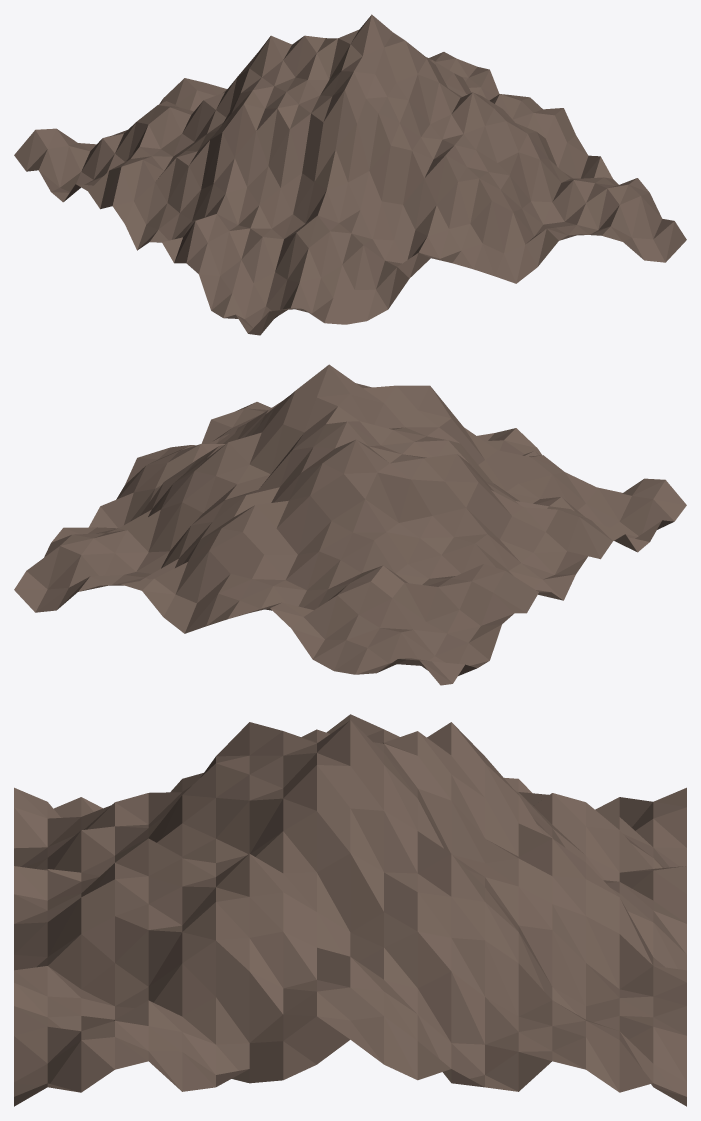
File: mountain.obj
3 renders of one model, top to bottom at view 1: azimuth 30°, elevation 25°; view 2: azimuth 150°, elevation 25°; view 3: azimuth 270°, elevation 25°, orthographic. The views are drawn at different scales.
Parts seen in each view (by area): view 1: Mountain; view 2: Mountain; view 3: Mountain.
Part boxes in pixels (x1,y1,x2,y2): Mountain: (14, 14, 686, 335); Mountain: (14, 364, 686, 685); Mountain: (14, 714, 686, 1106).
Size of the model in its own units: 10 by 4.47 by 10.
